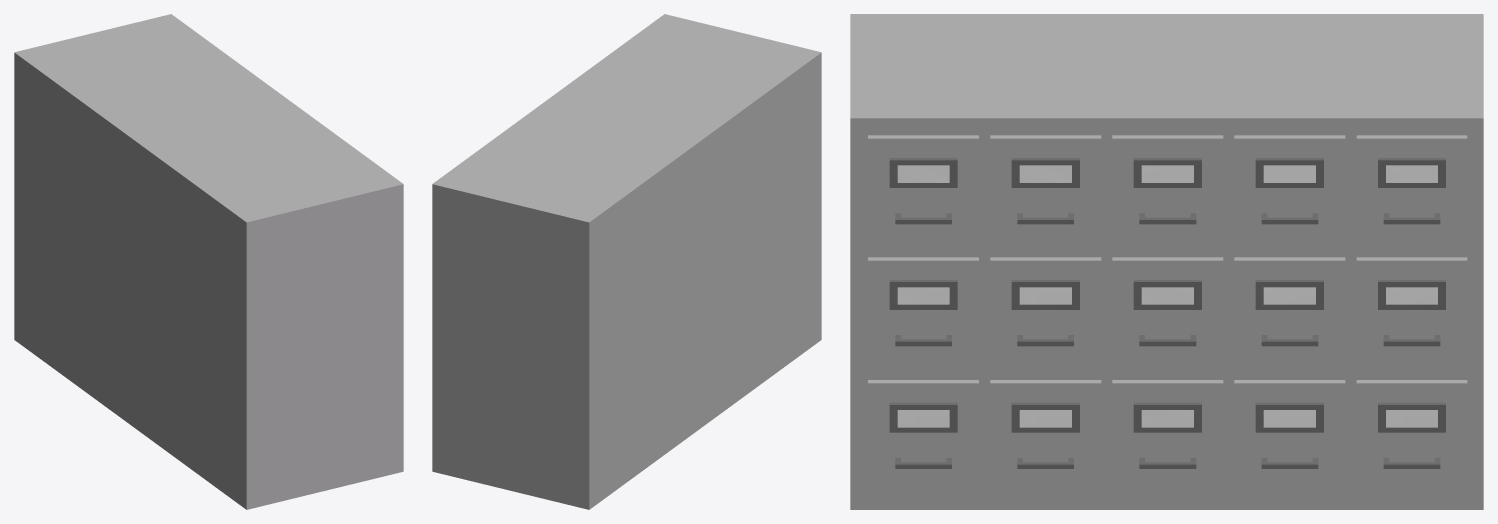
The model's file is SM_Cupboard_10.glb.
3 views of the same model, side by side, from view 1: azimuth 30°, elevation 25°; view 2: azimuth 150°, elevation 25°; view 3: azimuth 270°, elevation 25° (orthographic). The views are drawn at different scales.
Visible parts, largest first — view 1: SM_Cupboard_10; view 2: SM_Cupboard_10; view 3: SM_Cupboard_10.
Boxes of the visible parts, left/top/right/bottom form: SM_Cupboard_10: left=14, top=14, right=403, bottom=509; SM_Cupboard_10: left=432, top=14, right=821, bottom=509; SM_Cupboard_10: left=850, top=14, right=1483, bottom=509.
Bounding box in the file's own units: 0.7822 × 1.25 × 1.83.
Materials: 1 (1 with a texture image).
